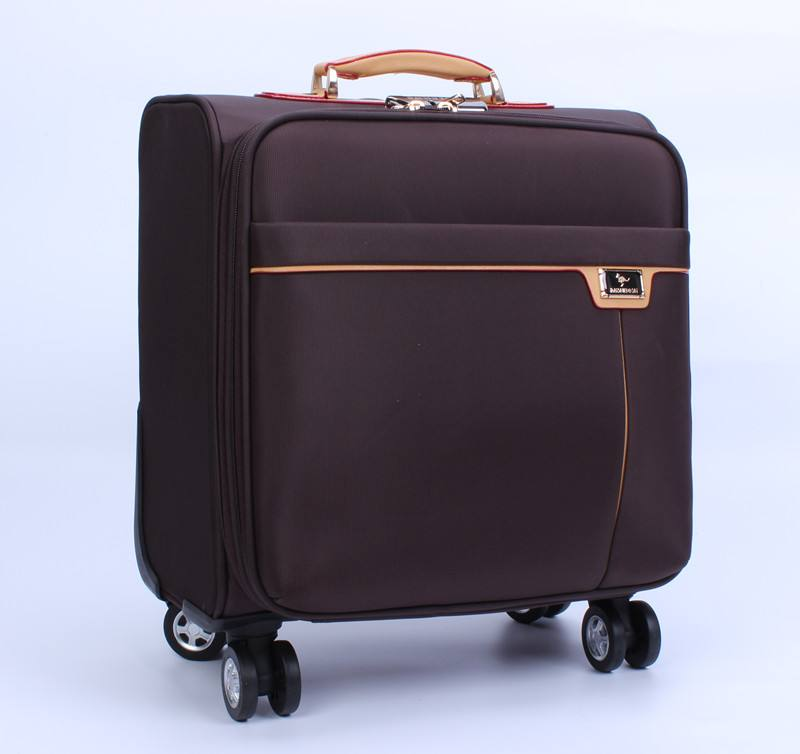box: (134, 94, 693, 621)
handle: (310, 48, 506, 104)
lock: (384, 95, 489, 112)
wheel: (221, 640, 302, 722), (581, 599, 662, 673), (164, 604, 226, 661)
